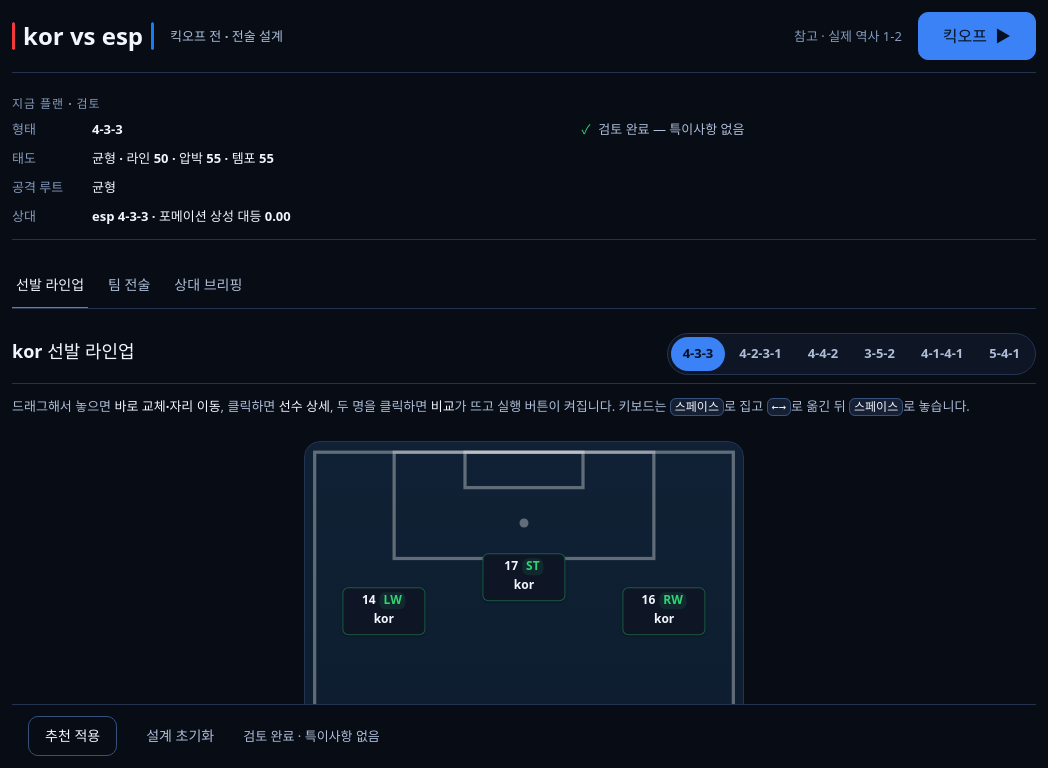
Test case: TacticsCenter — 킥오프 전 워룸 › 4축 슬라이더가 버튼 없이 즉시 요약에 반영된다
Click the tab "팀 전술" at (129, 286), box x1=104 y1=264 x2=154 y2=308
(page scrolled)
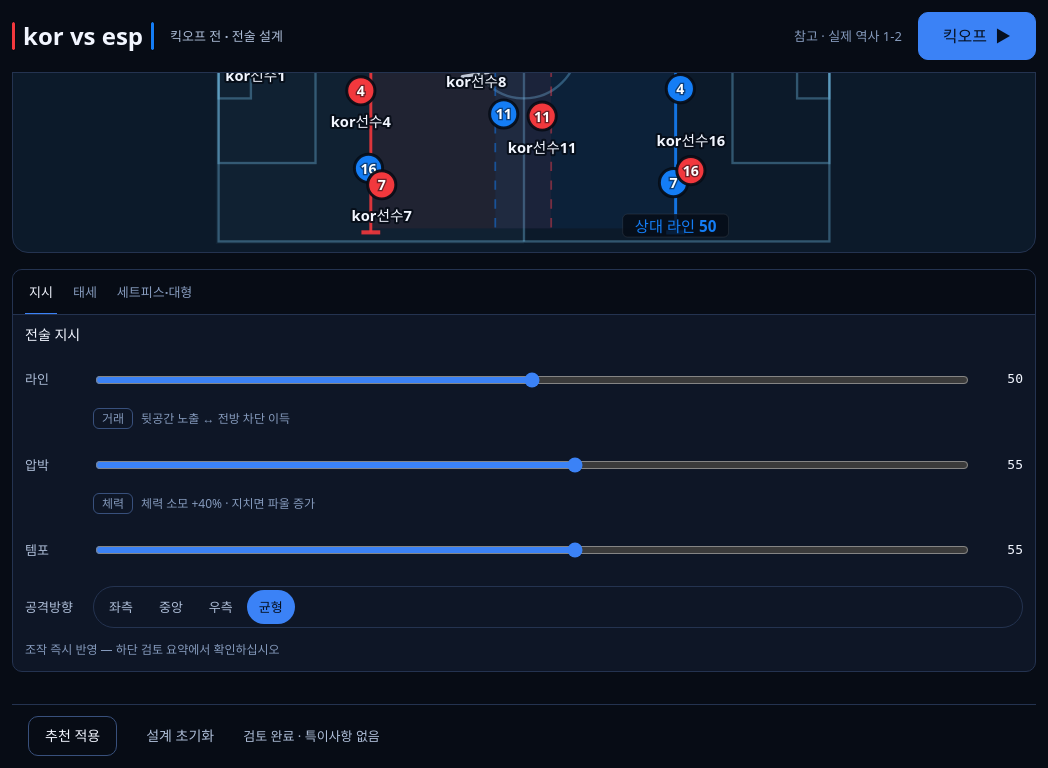
Set the slider named "압박" to "85" at (832, 465), box x1=95 y1=443 x2=969 y2=487
(page scrolled)
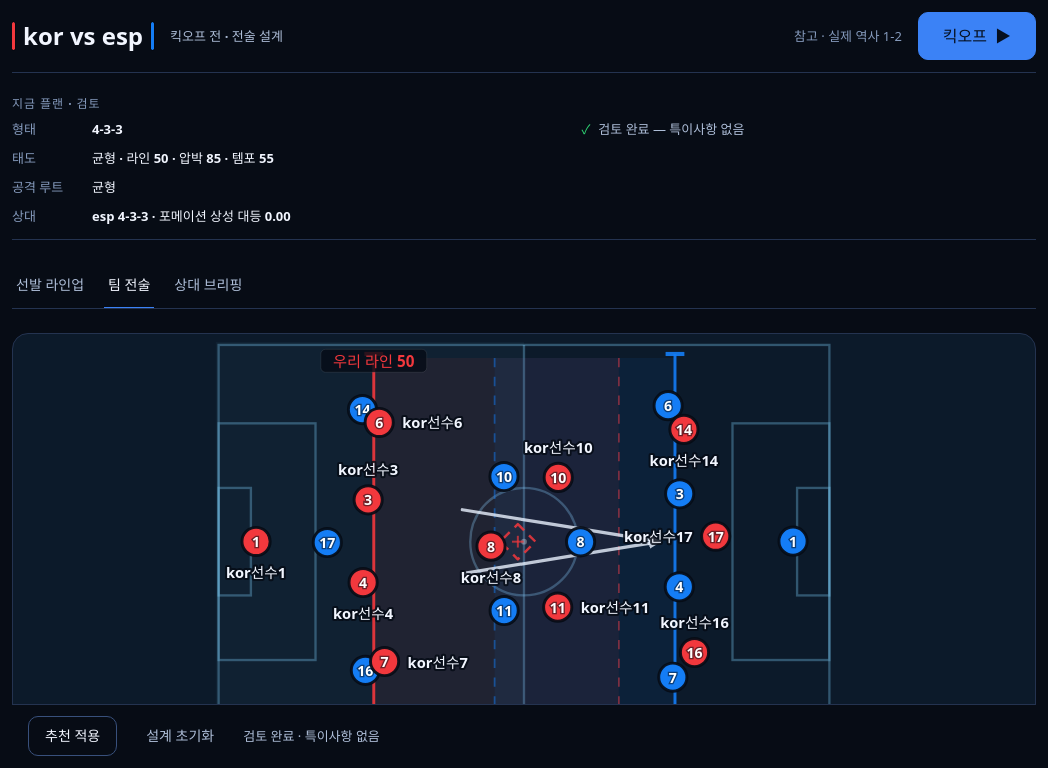
Expected: the element with class "tc-summary" shows "압박 85", x1=92 y1=149 x2=274 y2=167
